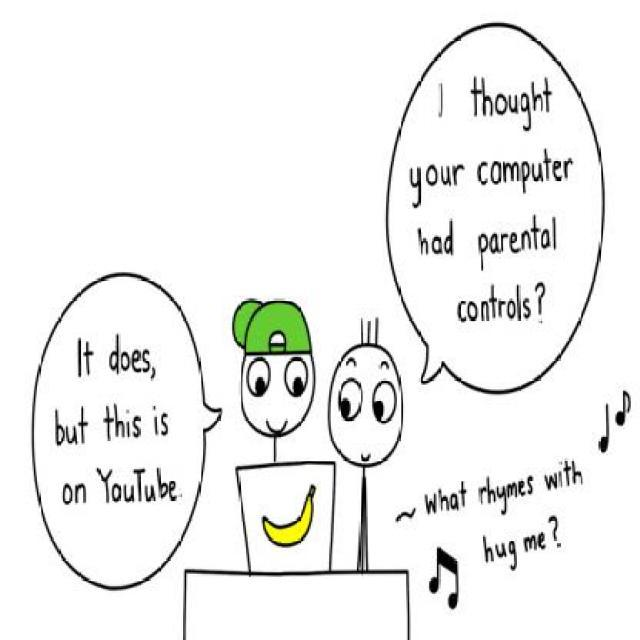Banana: (260, 482, 314, 544)
